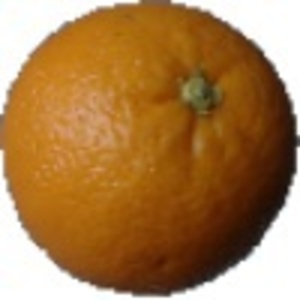laranja: (2, 2, 298, 292)
